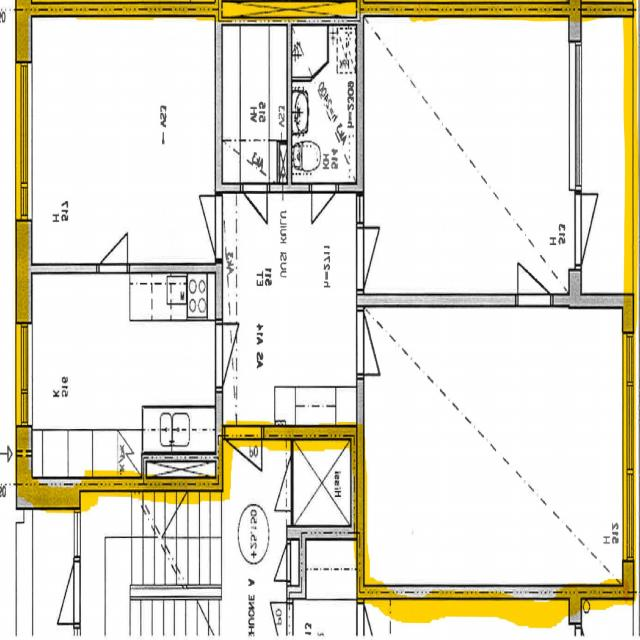door: (225, 425, 262, 512), (575, 195, 618, 265), (216, 323, 256, 387), (183, 196, 223, 258), (519, 232, 551, 308), (357, 228, 396, 290), (357, 313, 396, 374), (99, 209, 128, 273), (244, 183, 268, 239), (312, 183, 336, 239)
